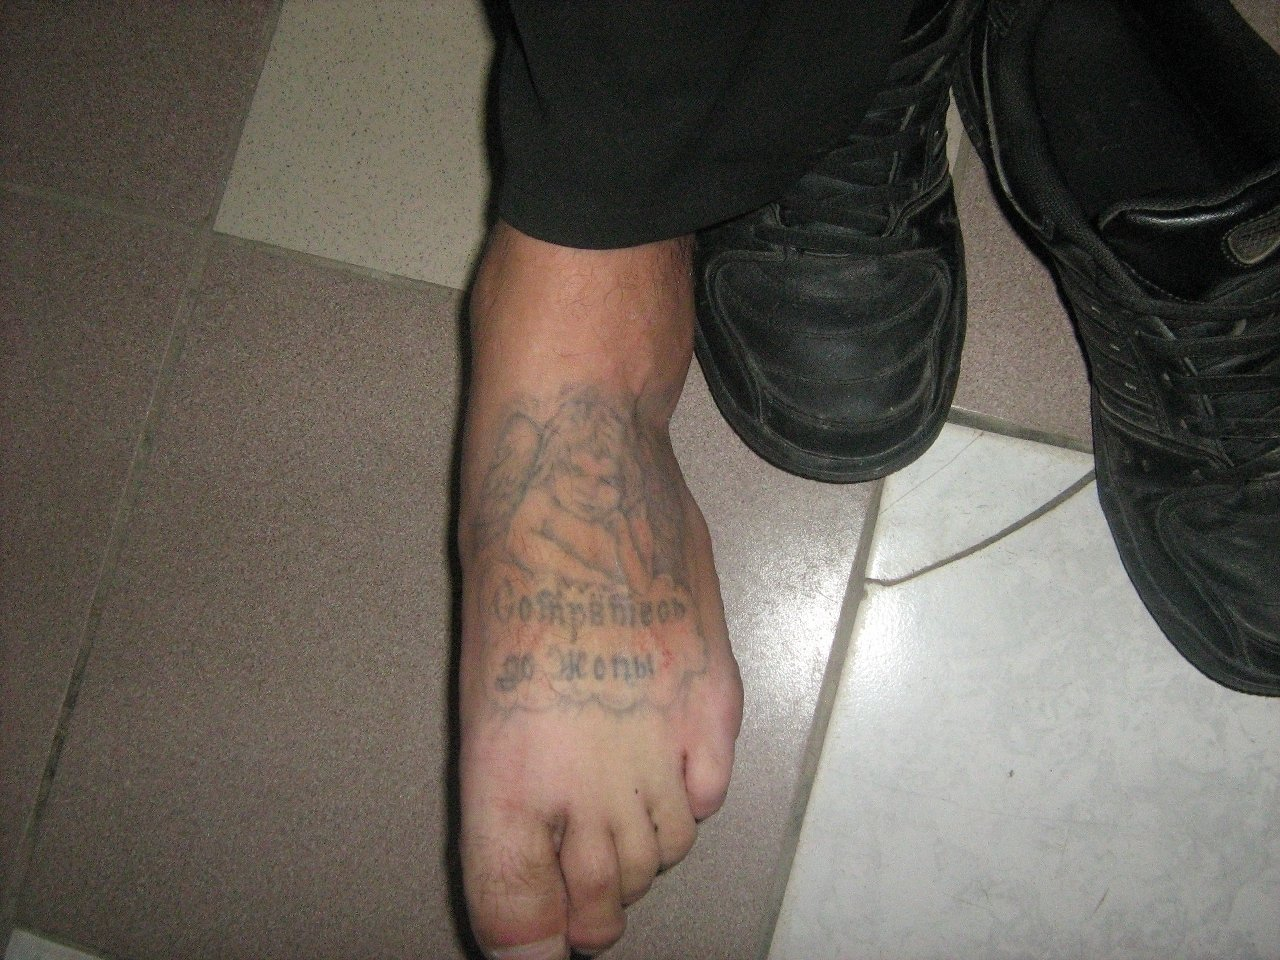tatu1_angel: (481, 377, 700, 601)
tatu3_bukva: (483, 580, 720, 712)
